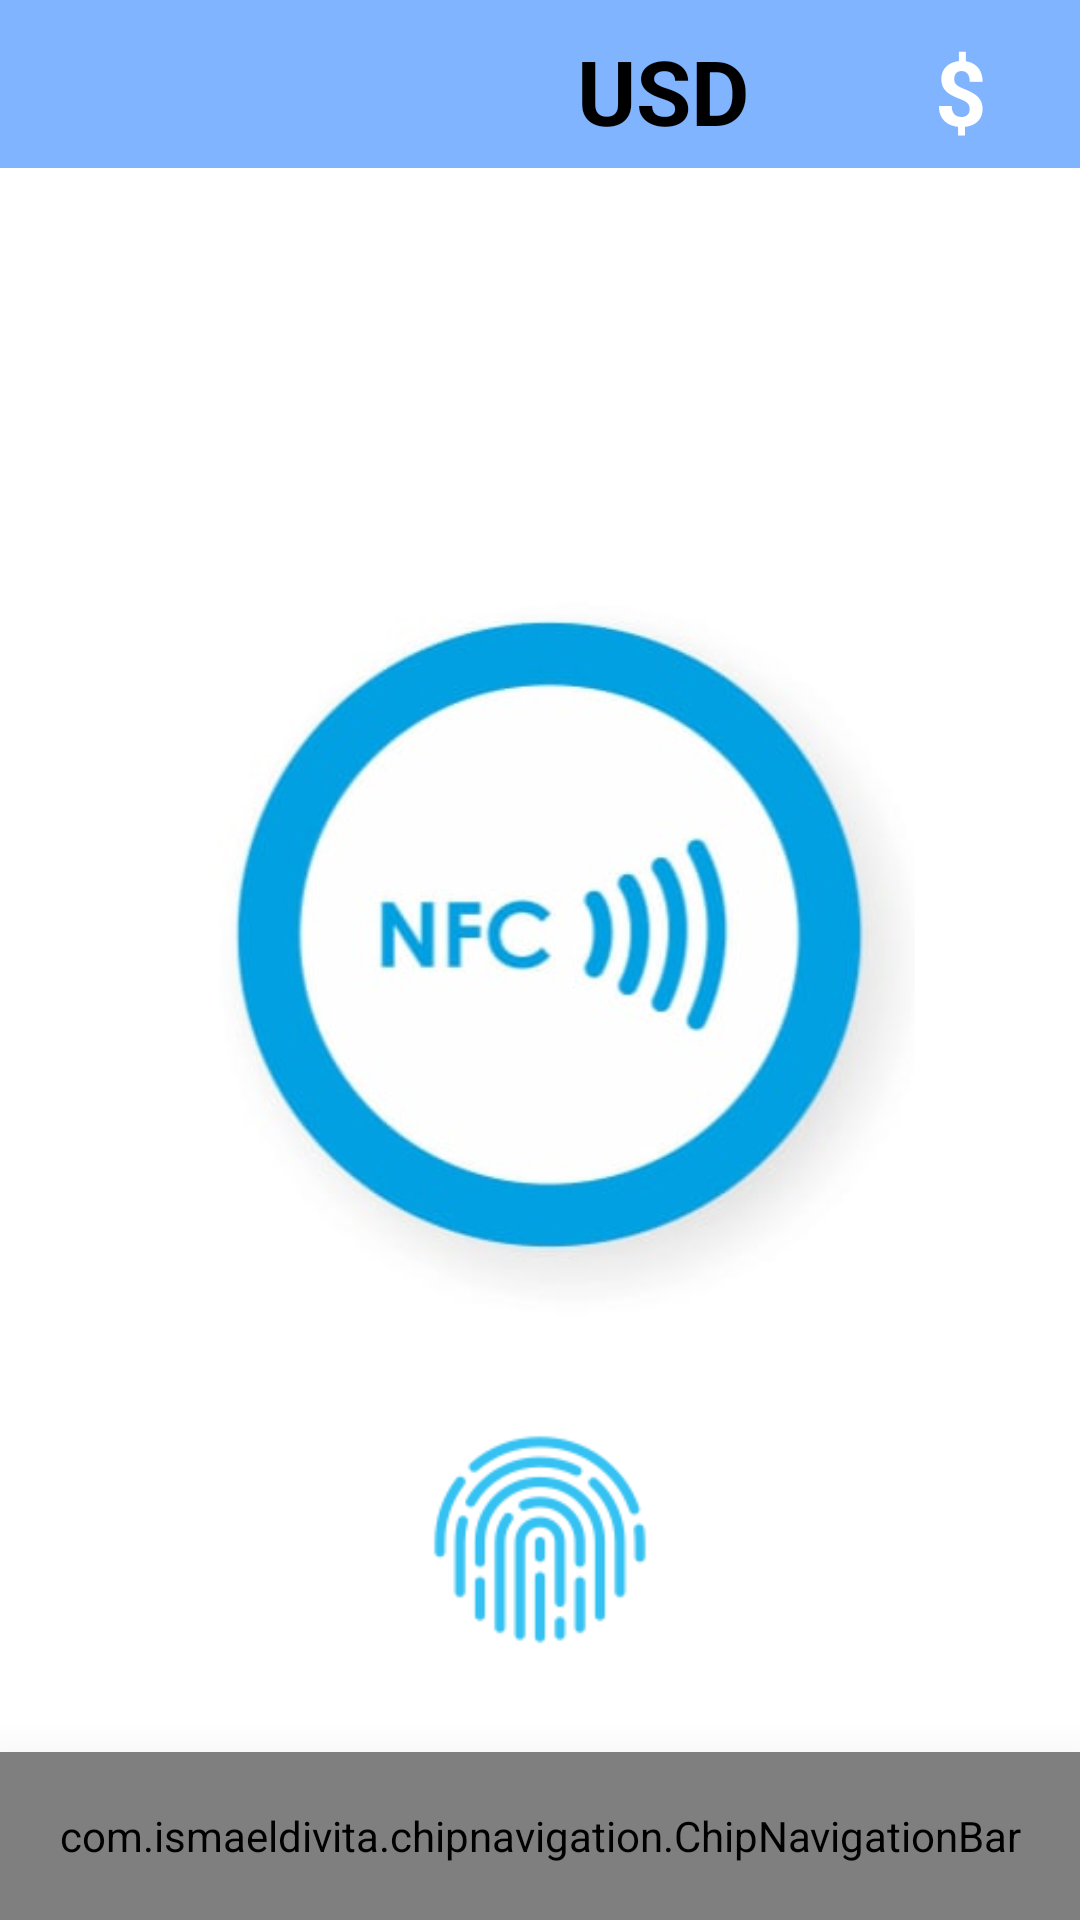

Named icons in this screenshot (1080*1920) and their centers, point (x, y):
fingerprint: point (540, 1539)
